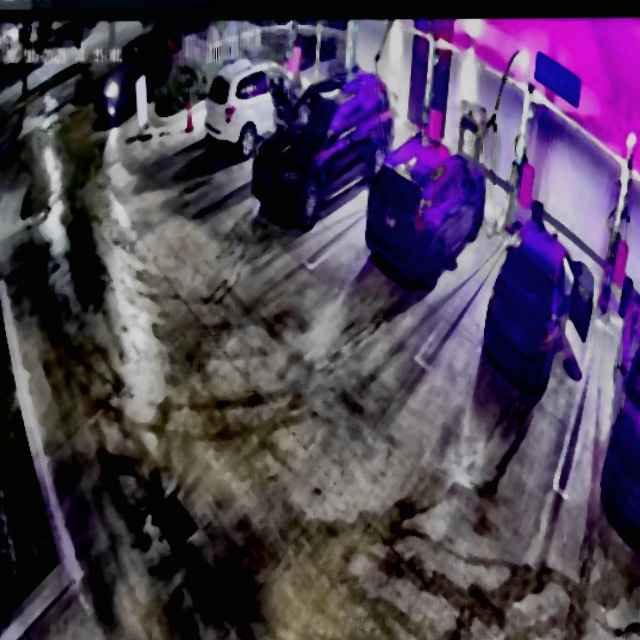Car: (256, 66, 394, 222), (363, 132, 486, 291), (481, 216, 597, 381)
